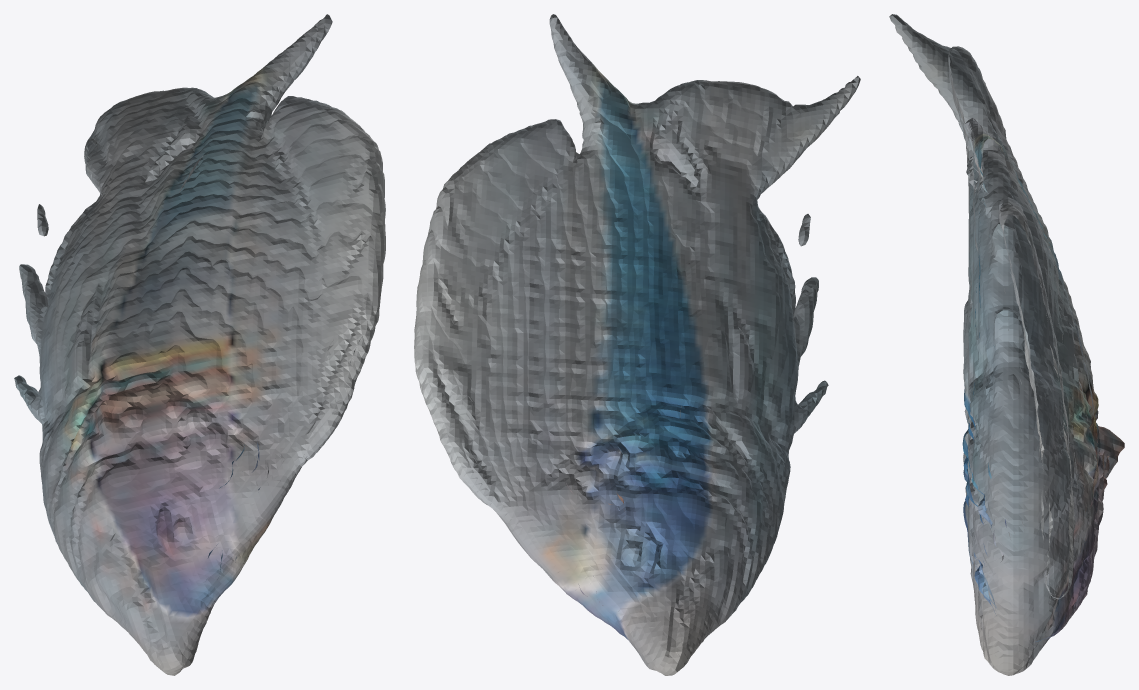
The model's file is blue-tang.glb.
3 views of the same model, side by side, from view 1: azimuth 30°, elevation 25°; view 2: azimuth 150°, elevation 25°; view 3: azimuth 270°, elevation 25° (orthographic). The views are drawn at different scales.
Visible parts, largest first — view 1: world; view 2: world; view 3: world.
Part boxes in pixels (box(x1,y1,x2,y2)): world: box(14, 14, 385, 675); world: box(414, 14, 860, 675); world: box(889, 14, 1124, 675).
Bounding box in the file's own units: 0.6022 × 0.924 × 0.3177.
